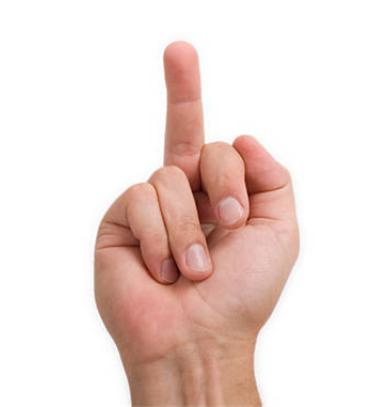insulting_gesture: (91, 39, 299, 407)
